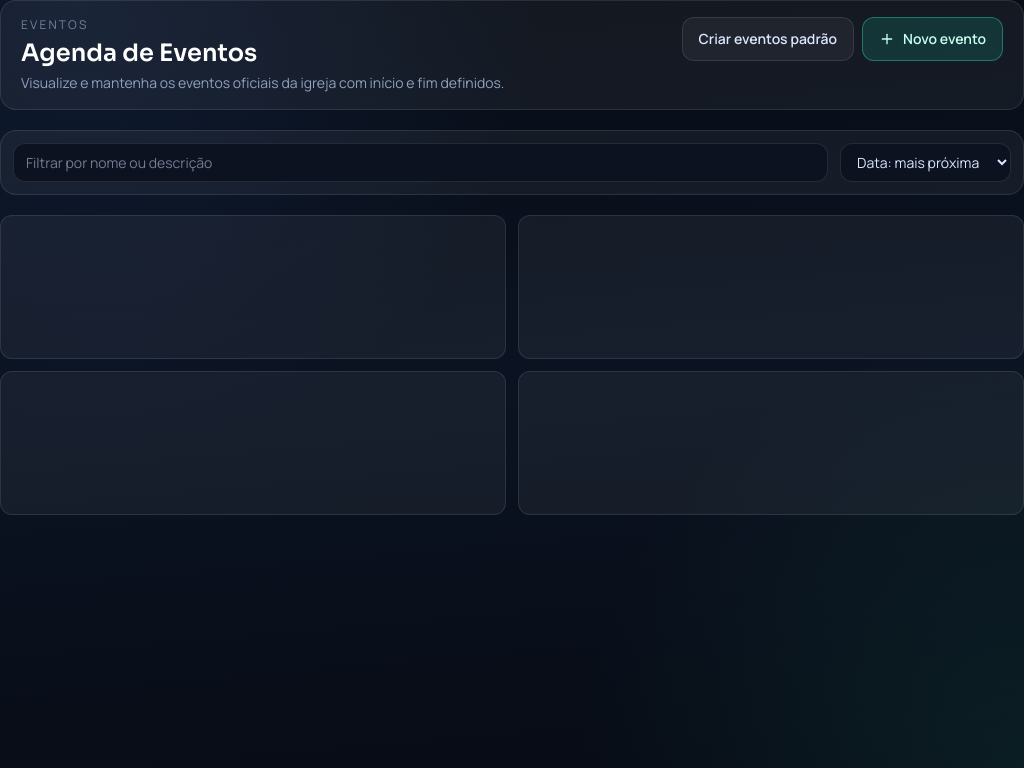
EventsPage — Recorrência › should show recurrence fields when checkbox is checked
Step 1. Click the button "Novo evento" → [933, 39], box [862,17,1003,61]
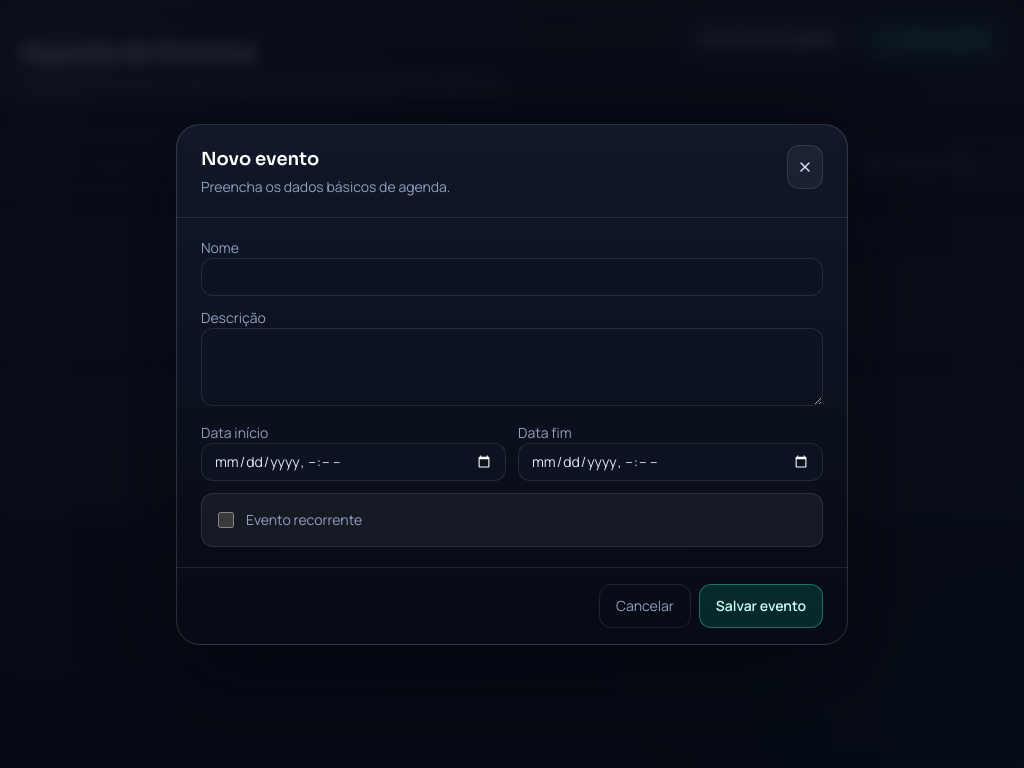
Step 2. Click the checkbox → [226, 520], box [218,512,234,528]
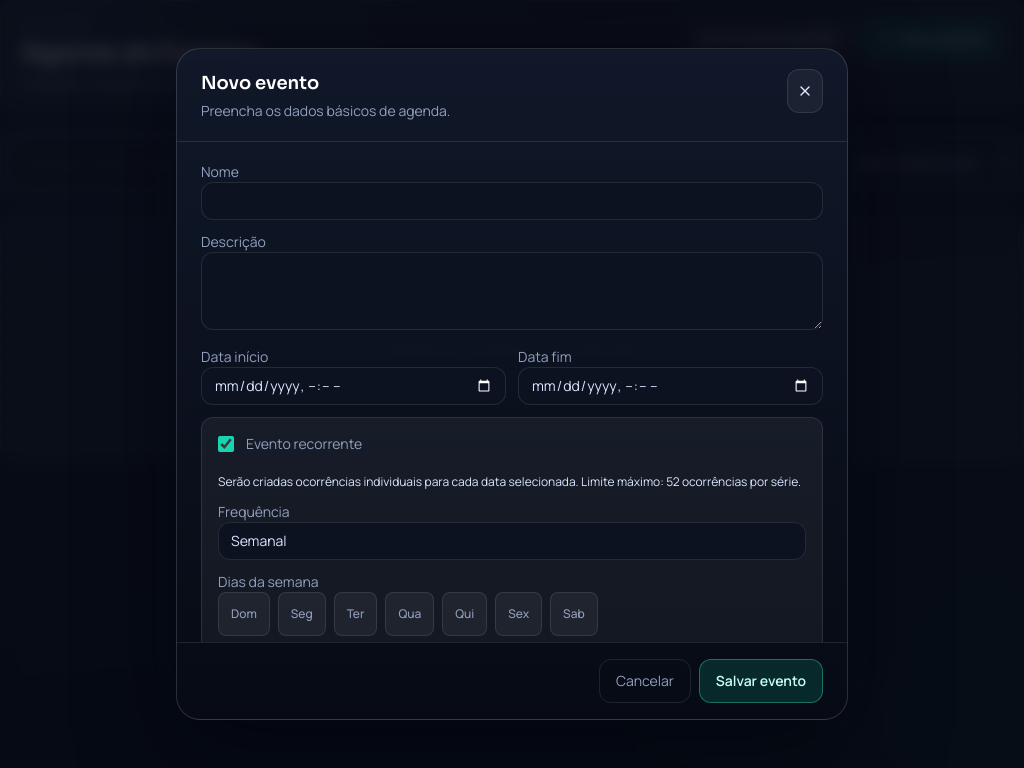
Result: the text "Frequência" is shown at [218,502,290,521]
Result: the text "Semanal" is shown at [218,522,806,560]
Result: the text "Dias da semana" is shown at [218,572,318,591]
